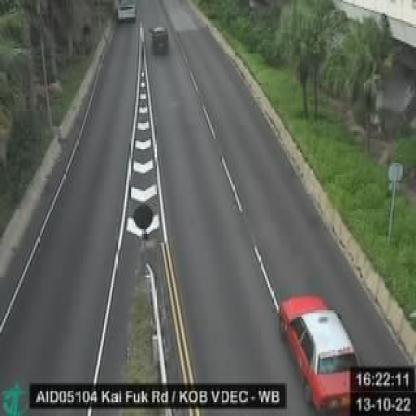Car: (278, 288, 363, 412), (152, 23, 170, 56)
